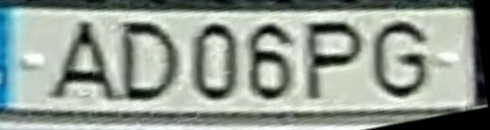0: (188, 19, 241, 104)
6: (243, 20, 297, 104)
A: (44, 16, 121, 103)
D: (119, 20, 183, 105)
G: (370, 16, 432, 102)
P: (300, 20, 367, 104)
